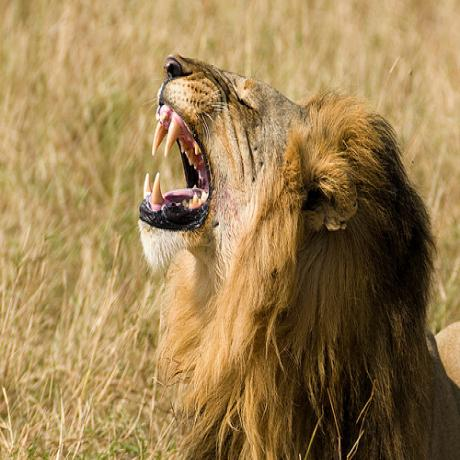Lion: (138, 53, 460, 460)
